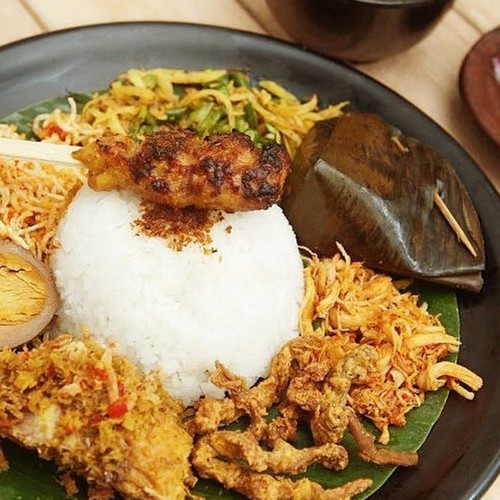nasi campur bali: (1, 80, 314, 487)
